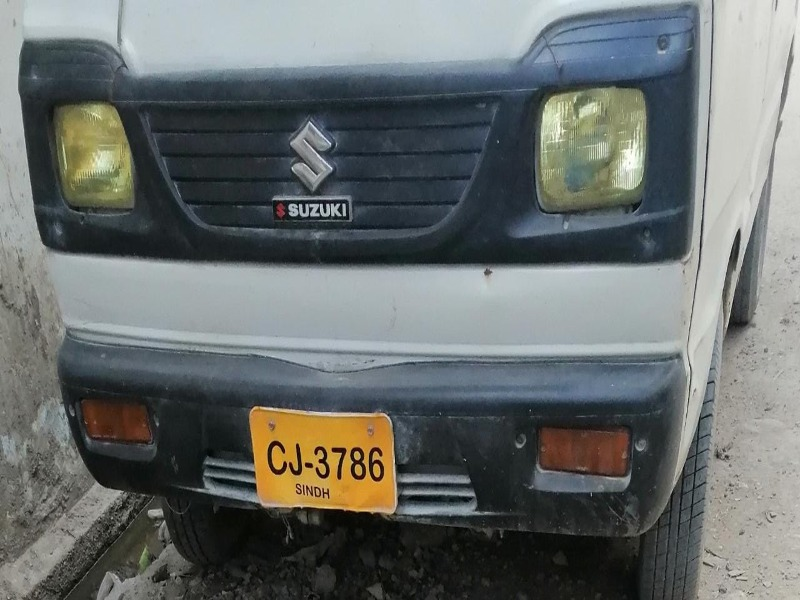License Plate: (249, 400, 401, 520)
